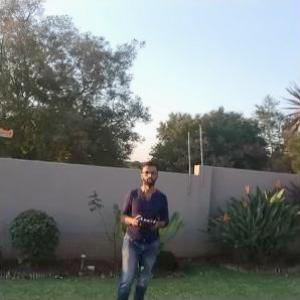follow: (113, 151, 173, 299)
